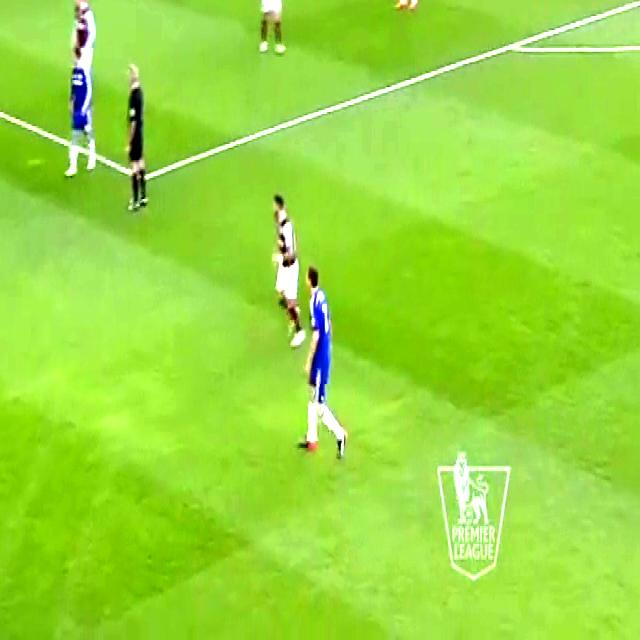referee: (117, 58, 151, 222)
soccer-player: (295, 265, 349, 464), (266, 178, 308, 352), (67, 43, 101, 182), (68, 0, 99, 103), (253, 0, 291, 60), (387, 0, 421, 18)
